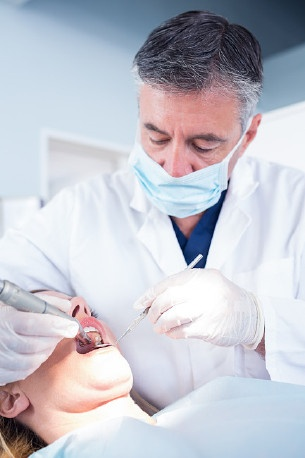Mask: (130, 111, 235, 215)
